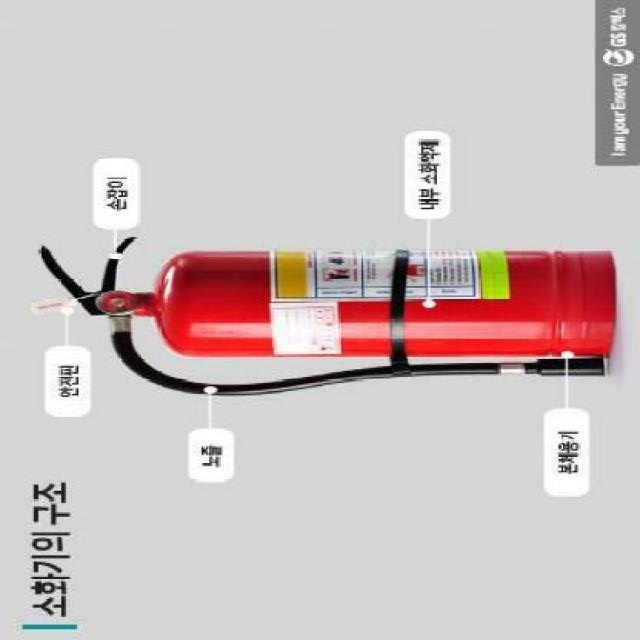fire extinguisher: (37, 236, 618, 398)
